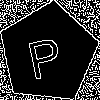P: (23, 28, 65, 80)
